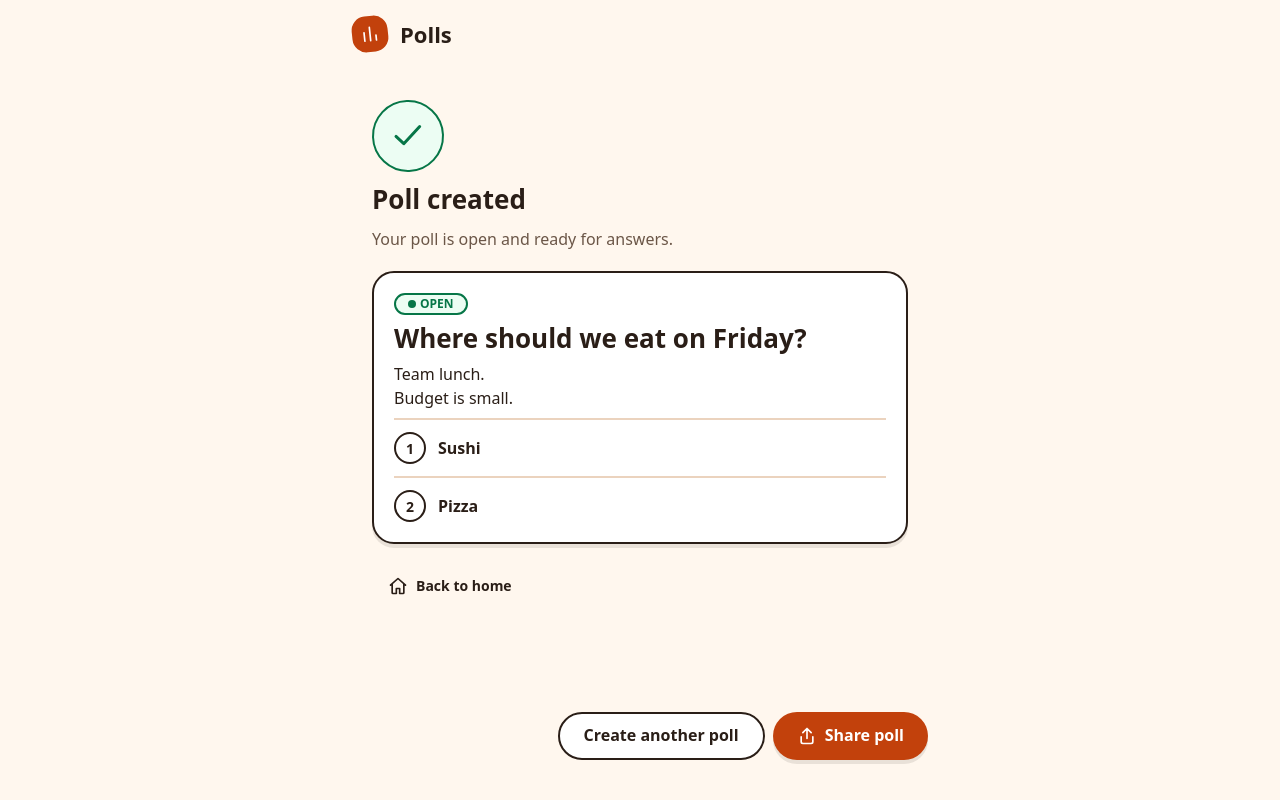
Test: PollCreatedPage › Share poll opens the share sheet with the invite link, and Done returns focus to it
Step 1. Click the button "Share poll" → x=850, y=736, box [773,712,928,760]
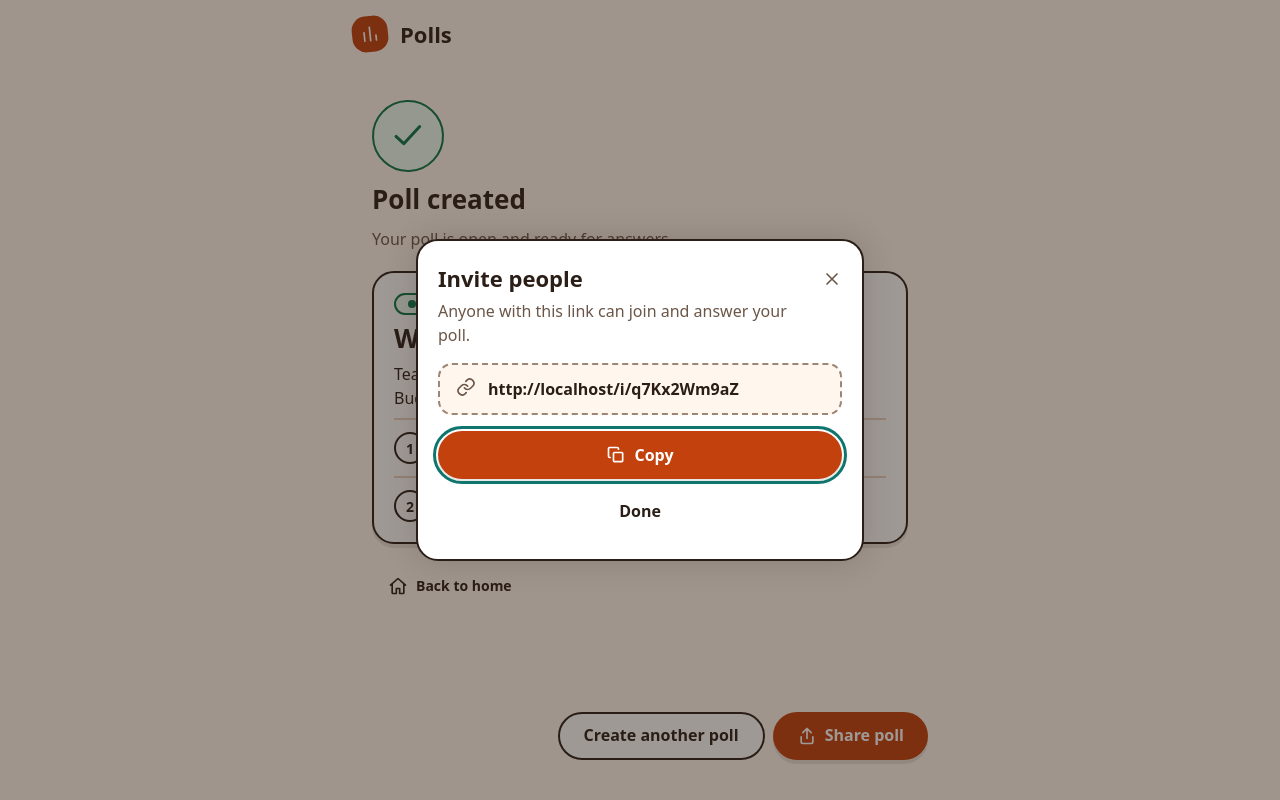
Expected: the element named "Invite link" does not show "poll-1", [438,363,842,415]
Step 2. Click the button "Done" → x=640, y=511, box [438,487,842,535]
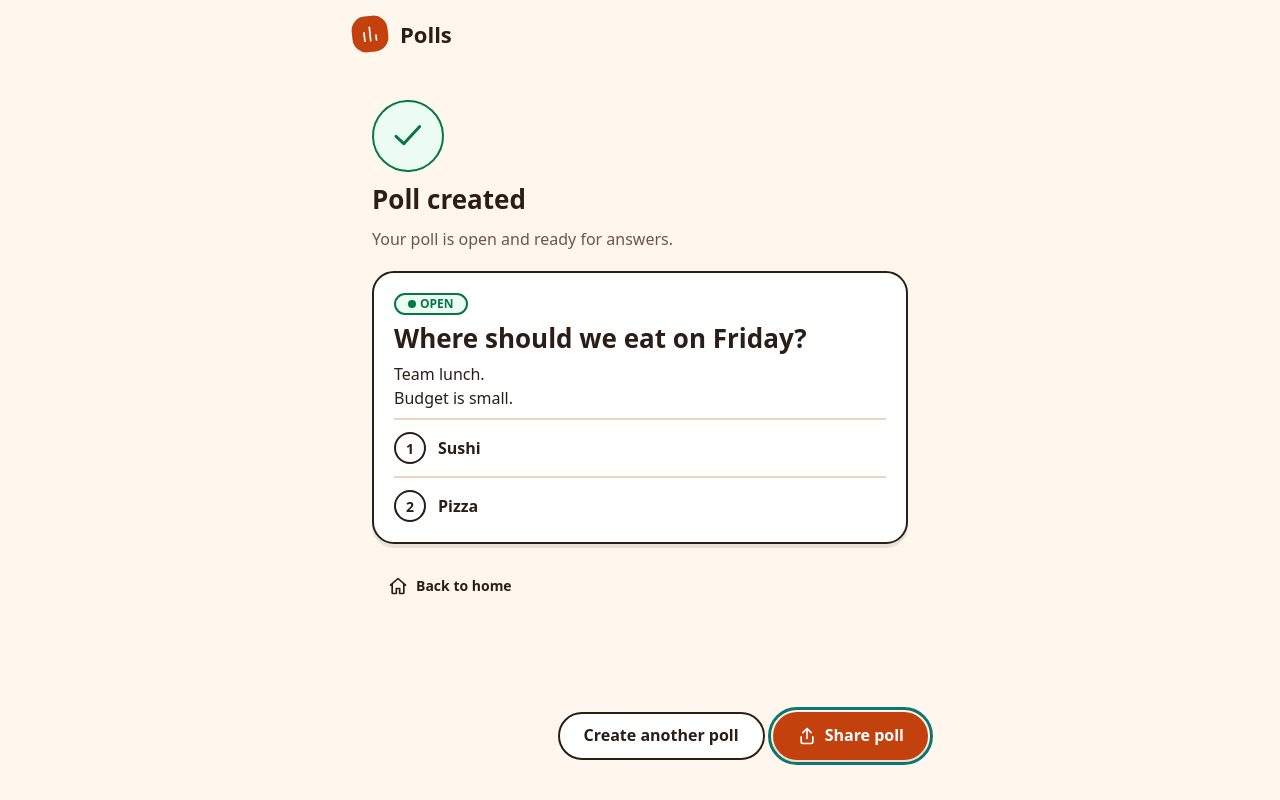
Now the dialog is gone
